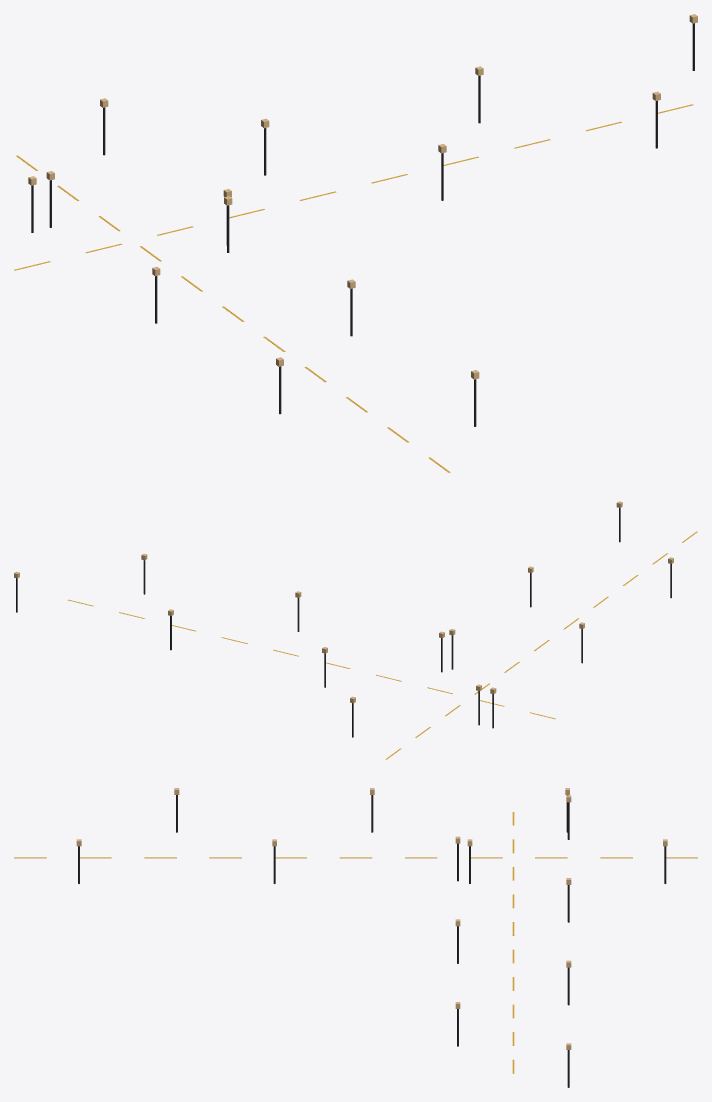
File: chunk_-2_2.glb
3 views of the same model, one above another, from view 1: azimuth 30°, elevation 25°; view 2: azimuth 150°, elevation 25°; view 3: azimuth 270°, elevation 25° (orthographic). The views are drawn at different scales.
Visible parts, largest first — view 1: chunk_-2_2__lamp, chunk_-2_2__ground; view 2: chunk_-2_2__lamp, chunk_-2_2__ground; view 3: chunk_-2_2__lamp, chunk_-2_2__ground.
Boxes of the visible parts, x1=… form: chunk_-2_2__lamp: x1=28, y1=14, x2=697, y2=426; chunk_-2_2__ground: x1=14, y1=104, x2=693, y2=472; chunk_-2_2__lamp: x1=14, y1=501, x2=673, y2=737; chunk_-2_2__ground: x1=67, y1=531, x2=697, y2=759; chunk_-2_2__lamp: x1=76, y1=788, x2=667, y2=1087; chunk_-2_2__ground: x1=14, y1=812, x2=697, y2=1073.
Bounding box in the file's own units: 60.22 × 4.4 × 63.
